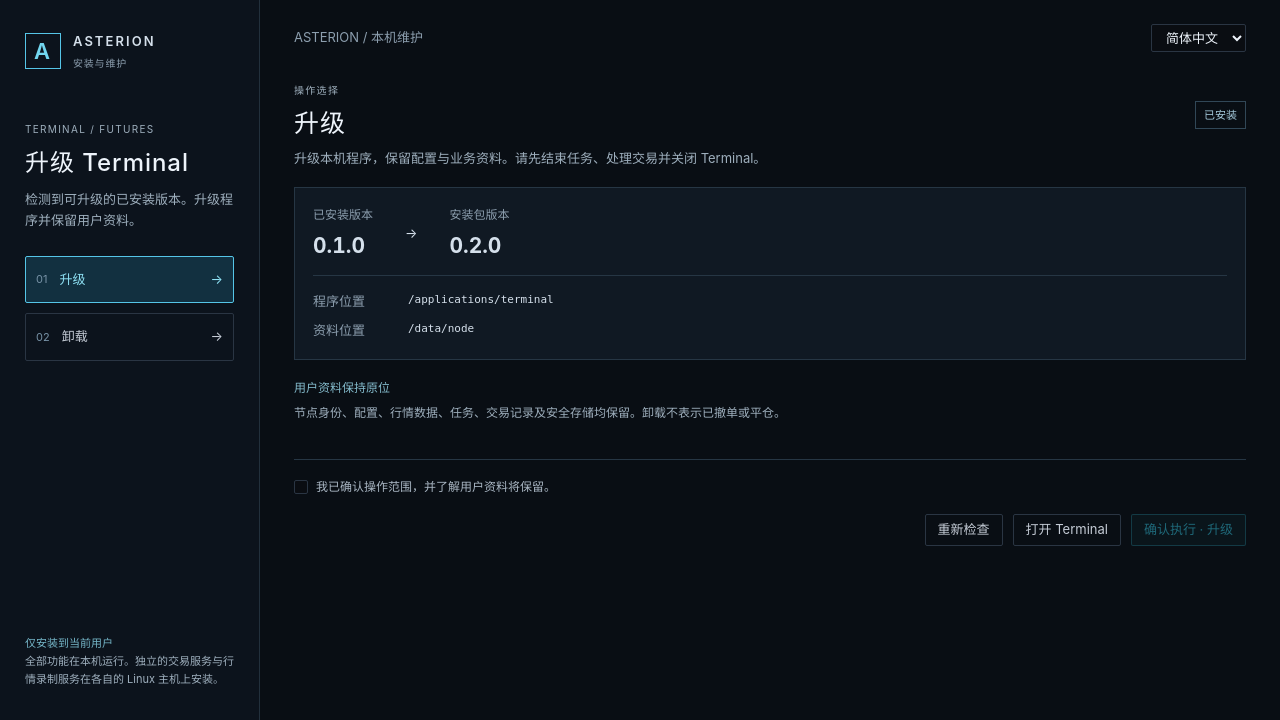
Test case: newer package offers upgrade and uninstall; uninstall returns to installation
Expected: the text "/applications/terminal" is shown, [408,293,554,306]
Expected: the heading "升级 Terminal" is shown, [25,148,189,177]
Click the button "02 卸载 →" at (130, 337), box [25,313,234,361]
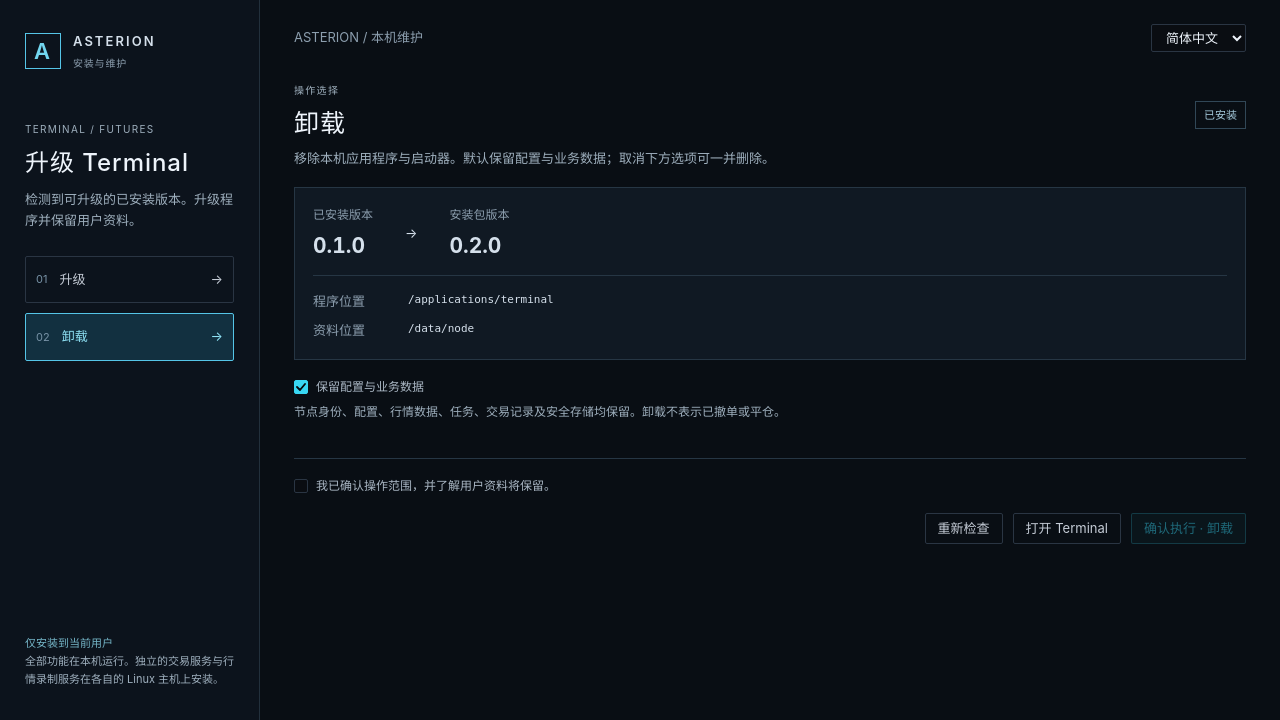
Expected: the checkbox labelled "保留配置与业务数据" is checked, [294,380,308,394]
Click the checkbox labelled "我已确认操作范围，并了解用户资料将保留。" at (301, 486), box [294,479,308,493]
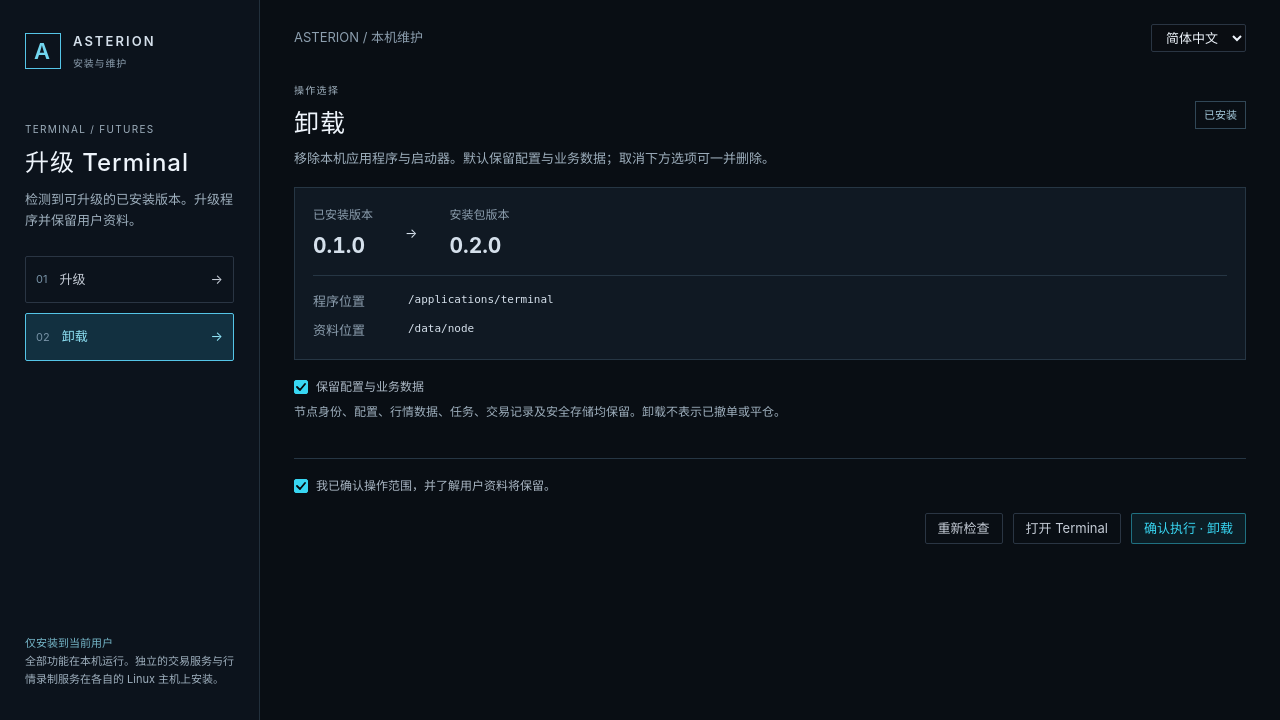
Click the button "确认执行 · 卸载" at (1188, 528), box [1131,513,1246,544]
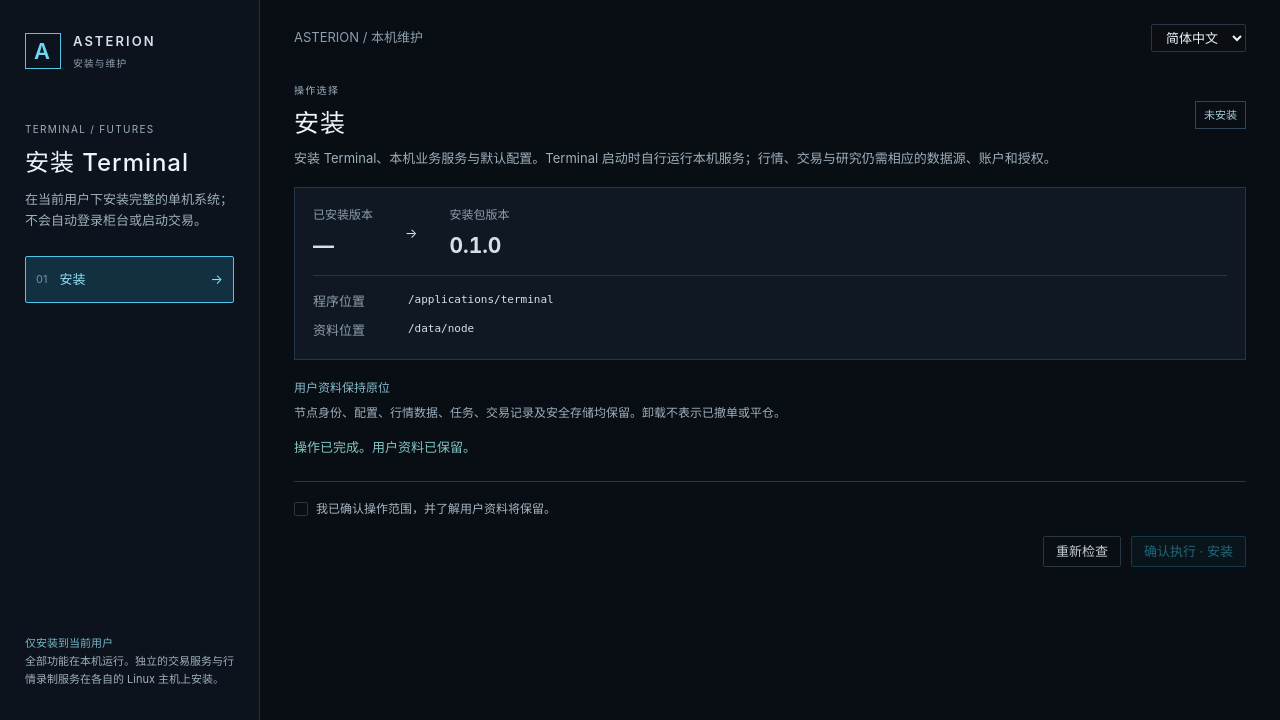
Expected: the text "操作已完成。用户资料已保留。" is shown, [294,439,476,455]
Expected: the heading "安装 Terminal" is shown, [25,148,189,177]
